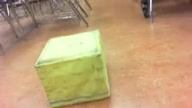cube: (33, 28, 110, 108)
